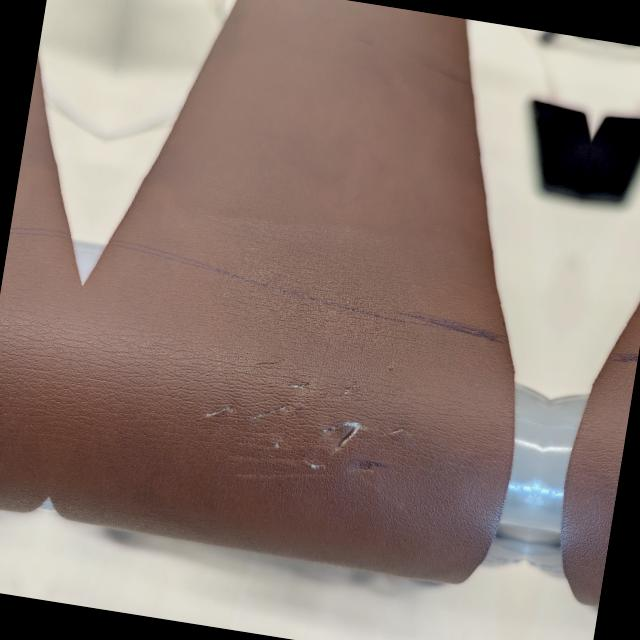belt_crack: (163, 294, 466, 521)
